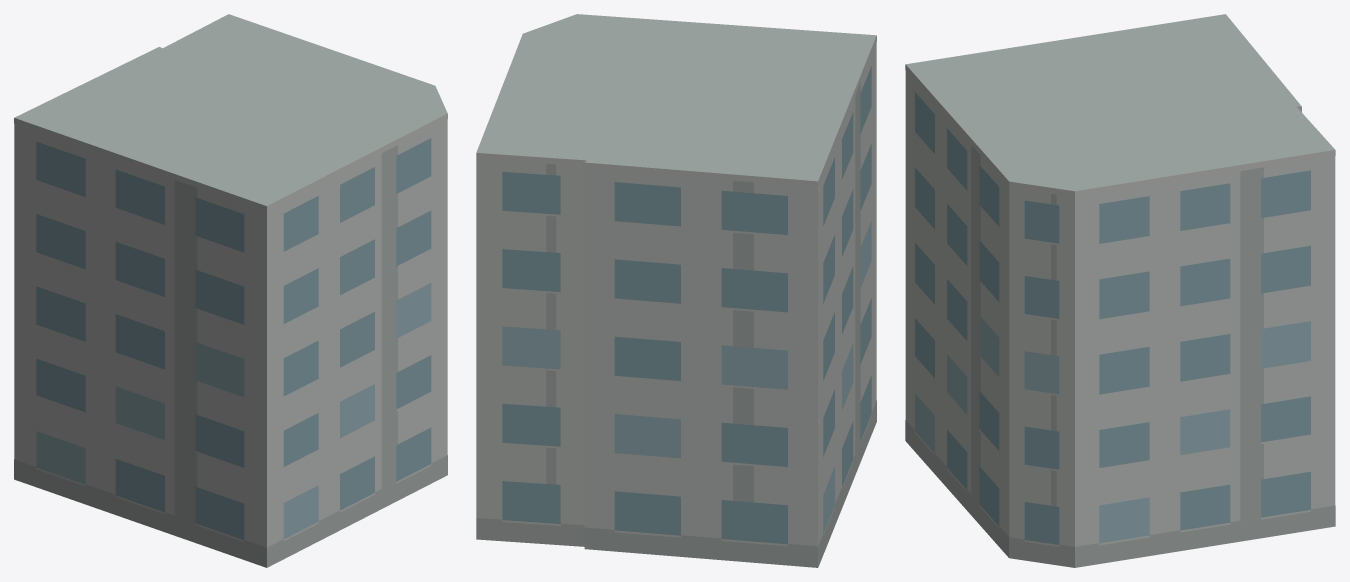
The model's file is survey-upis-32837065.glb.
3 views of the same model, side by side, from view 1: azimuth 30°, elevation 25°; view 2: azimuth 150°, elevation 25°; view 3: azimuth 270°, elevation 25° (orthographic). The views are drawn at different scales.
Visible parts, largest first — view 1: survey-upis-32837065.tmp; view 2: survey-upis-32837065.tmp; view 3: survey-upis-32837065.tmp.
Boxes of the visible parts, x1,y1,x2,y2 form: survey-upis-32837065.tmp: (14, 14, 447, 567); survey-upis-32837065.tmp: (476, 14, 876, 567); survey-upis-32837065.tmp: (905, 14, 1335, 567).
Bounding box in the file's own units: 15.15 × 15 × 15.53.
